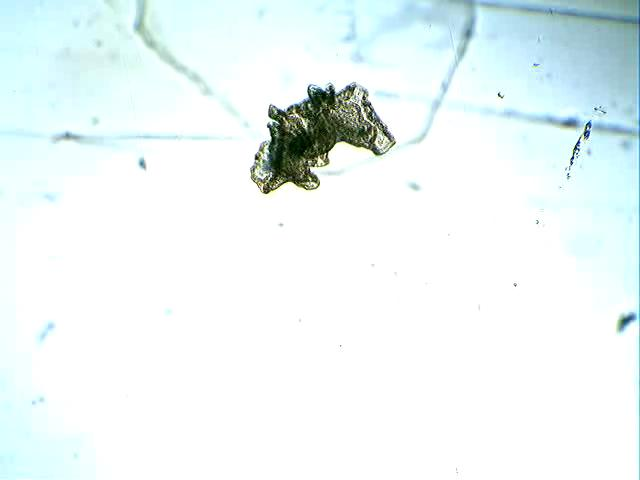Placozoan: (250, 82, 395, 193)
